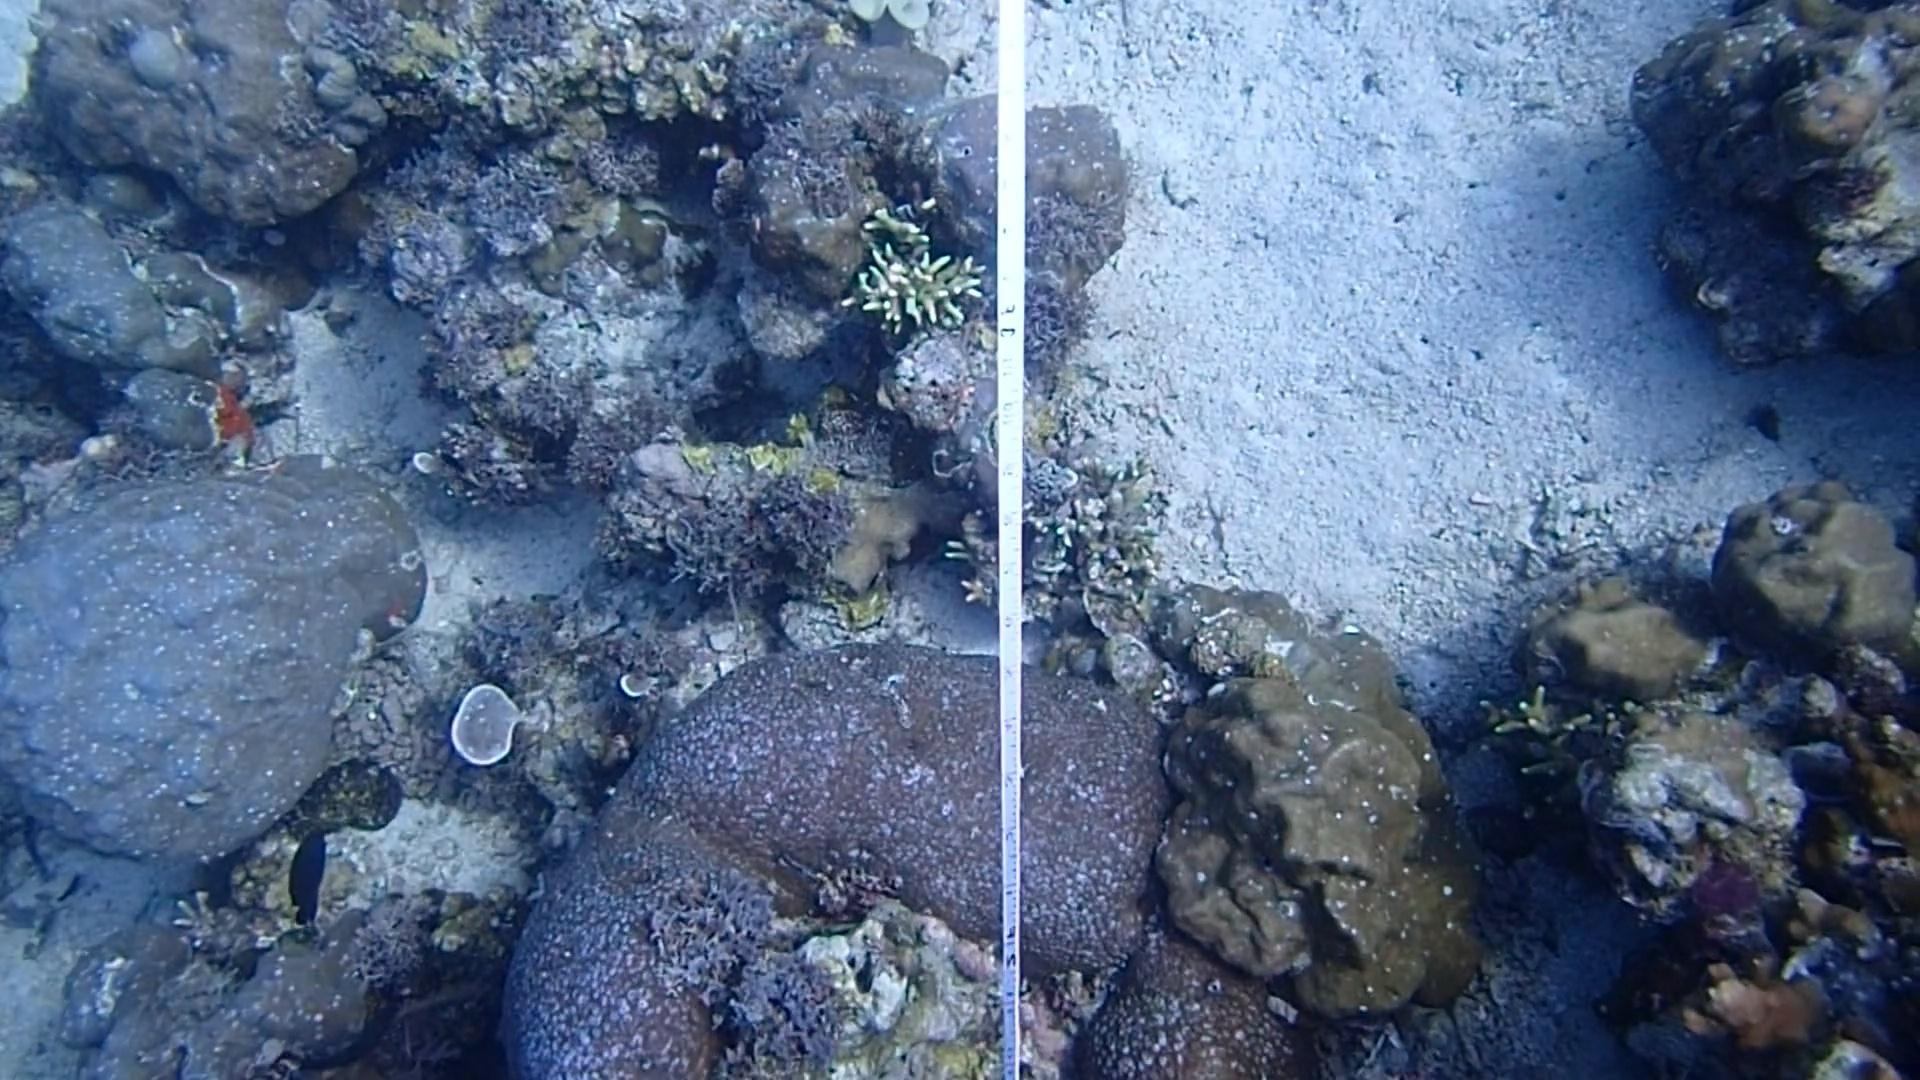Dark Fish: (272, 819, 343, 943)
